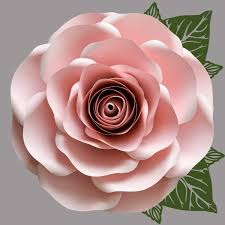lale: (6, 7, 215, 220)
